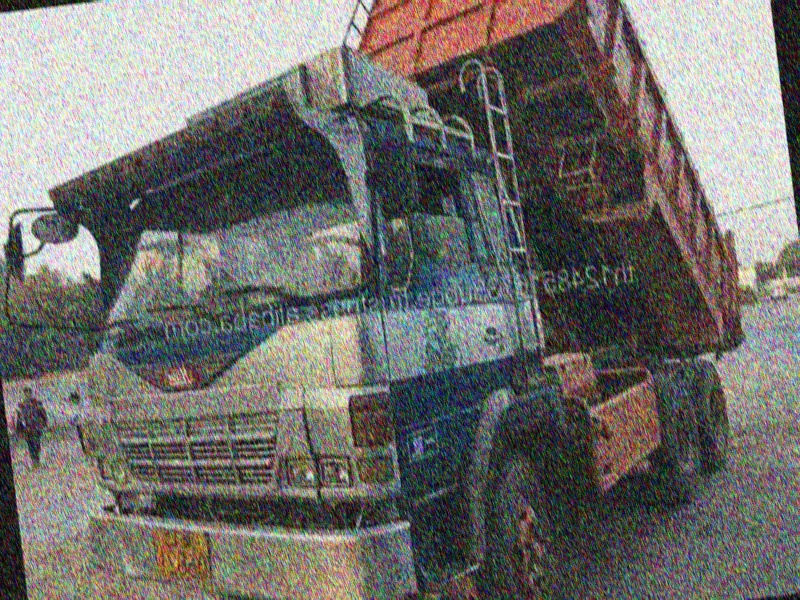truck: (27, 0, 780, 600)
